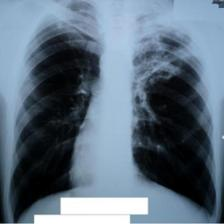tuberculosis: (6, 5, 219, 224)
